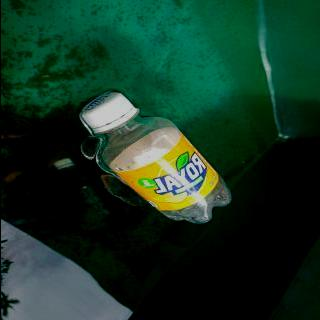bottle: (76, 91, 232, 222)
